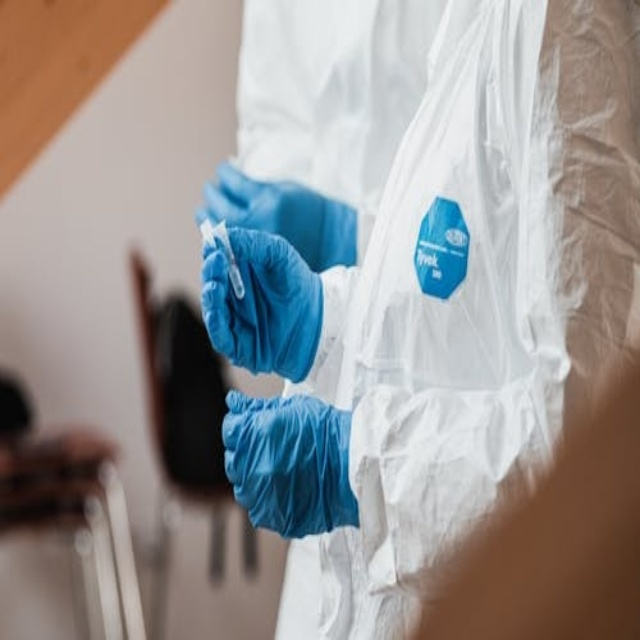Guantes: (219, 377, 362, 546), (195, 211, 323, 383), (197, 149, 364, 270)
